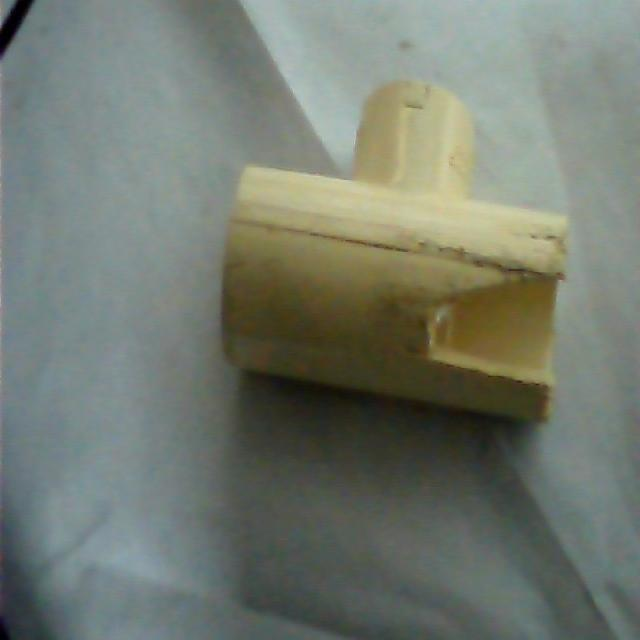Defective: (416, 214, 566, 424), (429, 279, 561, 389)
T Joint: (220, 80, 569, 425)
